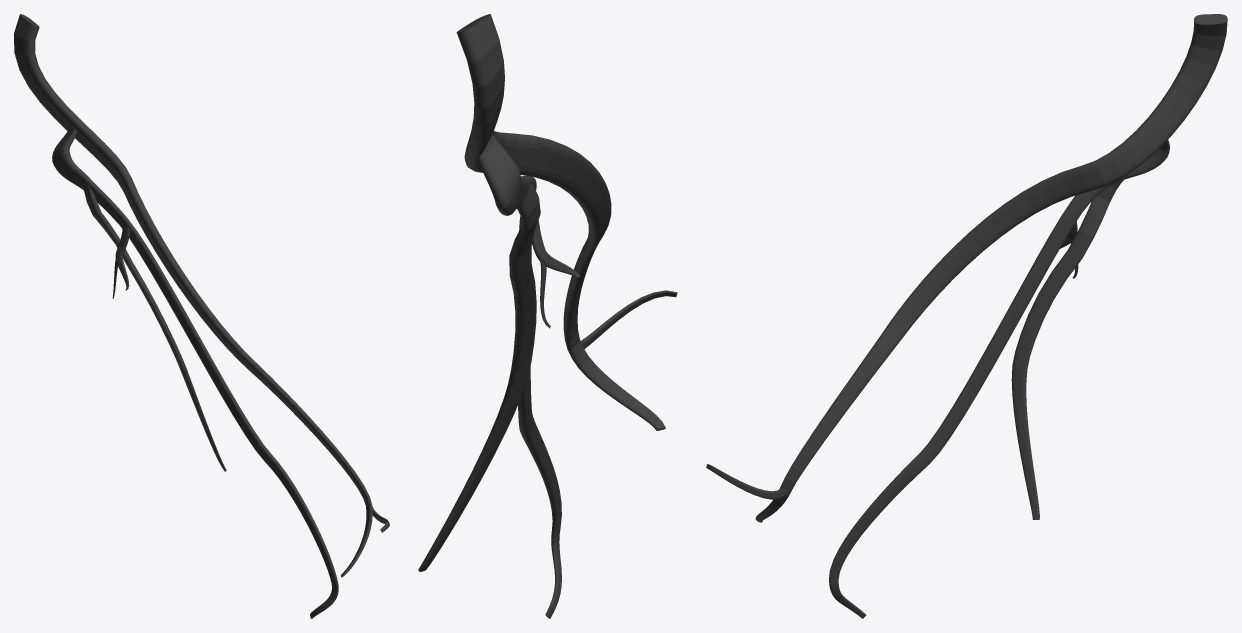
Rendered from L_Trigeminus_Ophthalmic.glb.
3 views of the same model, side by side, from view 1: azimuth 30°, elevation 25°; view 2: azimuth 150°, elevation 25°; view 3: azimuth 270°, elevation 25° (orthographic). The views are drawn at different scales.
Visible parts, largest first — view 1: L_Trigeminus_Ophthalmic; view 2: L_Trigeminus_Ophthalmic; view 3: L_Trigeminus_Ophthalmic.
Boxes of the visible parts, <box> form: L_Trigeminus_Ophthalmic: <box>14,14,389,618</box>; L_Trigeminus_Ophthalmic: <box>418,14,677,618</box>; L_Trigeminus_Ophthalmic: <box>706,14,1227,618</box>.
Bounding box in the file's own units: 0.1527 × 0.4788 × 0.4179.
Materials: 1 (1 with a texture image).
